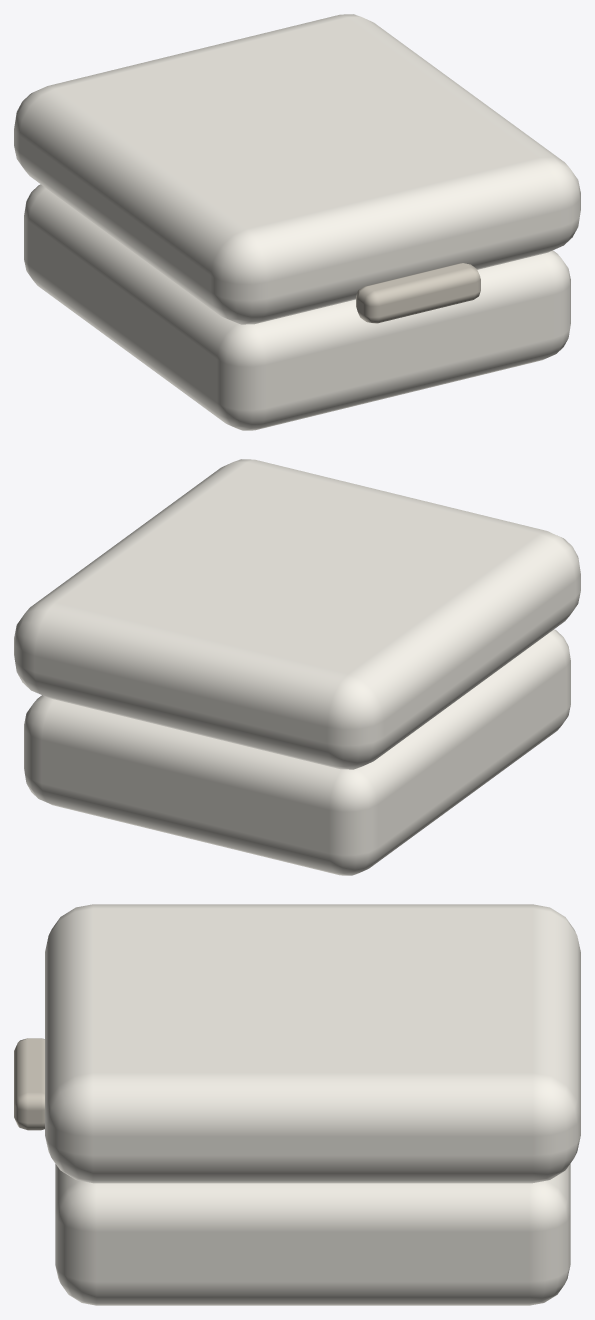
Rendered from SM_BurgerBox.glb.
3 views of the same model, one above another, from view 1: azimuth 30°, elevation 25°; view 2: azimuth 150°, elevation 25°; view 3: azimuth 270°, elevation 25° (orthographic). The views are drawn at different scales.
Parts seen in each view (by area): view 1: Lid, SM_BurgerBox; view 2: Lid, SM_BurgerBox; view 3: Lid, SM_BurgerBox.
Part boxes in pixels (bbox=[...]): Lid: bbox=[14, 14, 580, 324]; SM_BurgerBox: bbox=[24, 184, 570, 430]; Lid: bbox=[14, 459, 580, 769]; SM_BurgerBox: bbox=[24, 629, 570, 875]; Lid: bbox=[14, 904, 580, 1183]; SM_BurgerBox: bbox=[55, 1163, 570, 1305].
Size of the model in its own units: 0.141 by 0.074 by 0.165.
Materials: 1 (1 with a texture image).
